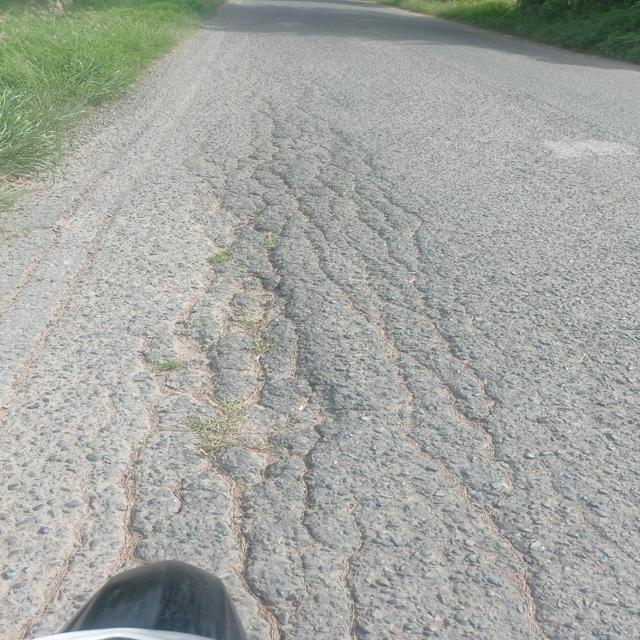Retak Buaya: (82, 117, 539, 576)
